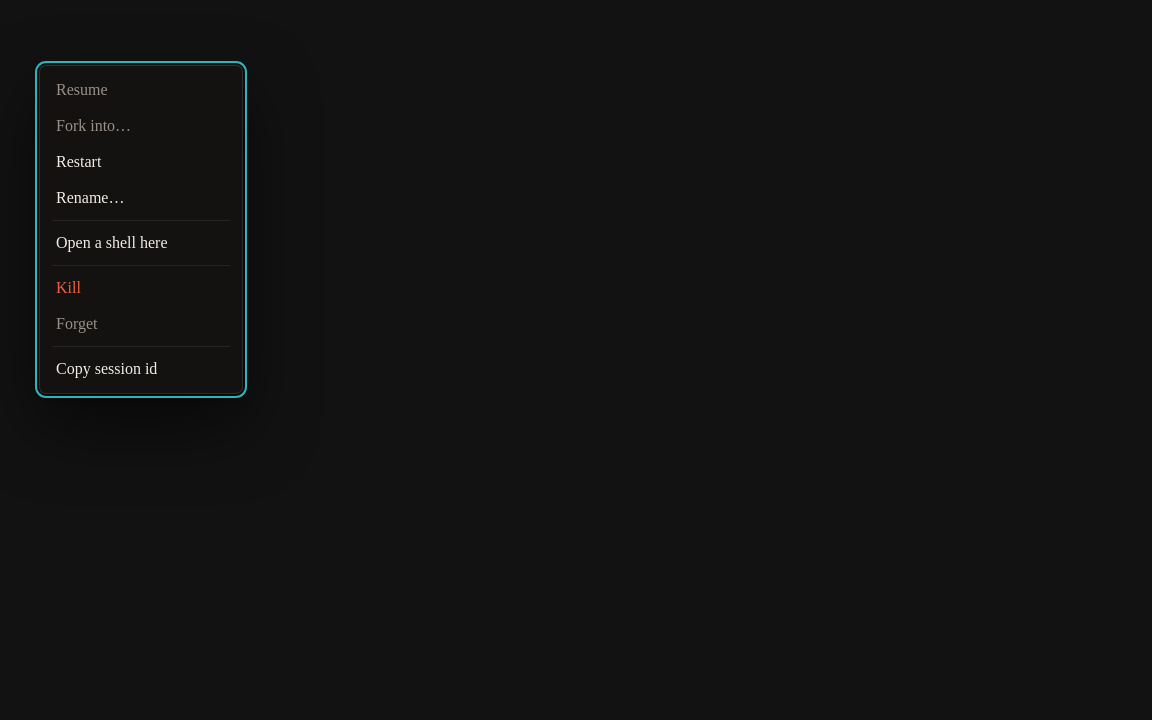
SessionMenu › Escape in the rename input returns to the verb list and closes nothing else
Click the menu item "Rename…": (141,198) x1=46 y1=180 x2=236 y2=216
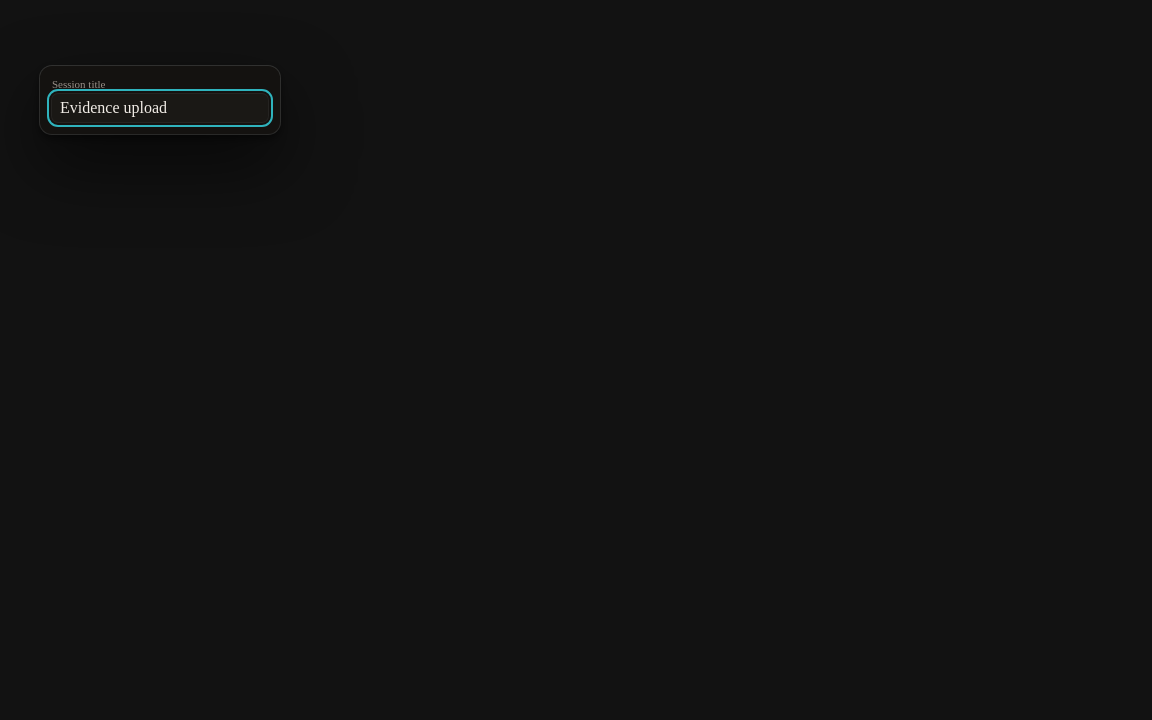
Press Escape in the field labelled "Session title", box x1=52 y1=94 x2=268 y2=122
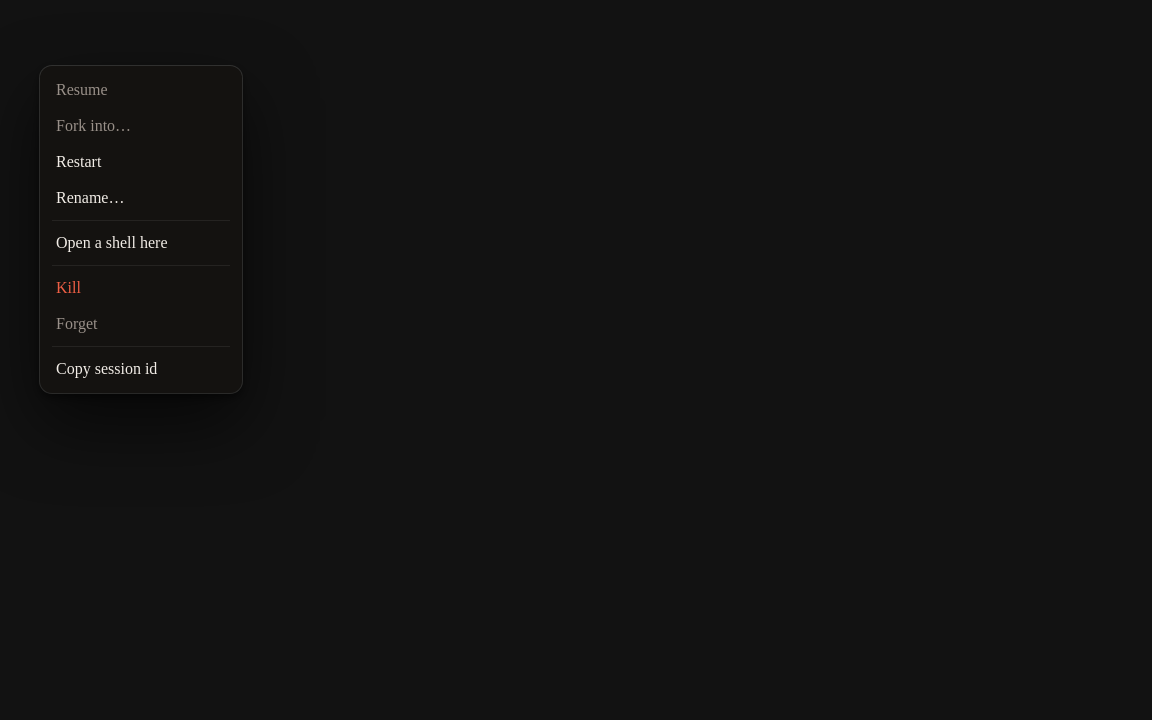
Result: the menu item "Kill" is shown at x1=46 y1=270 x2=236 y2=306
